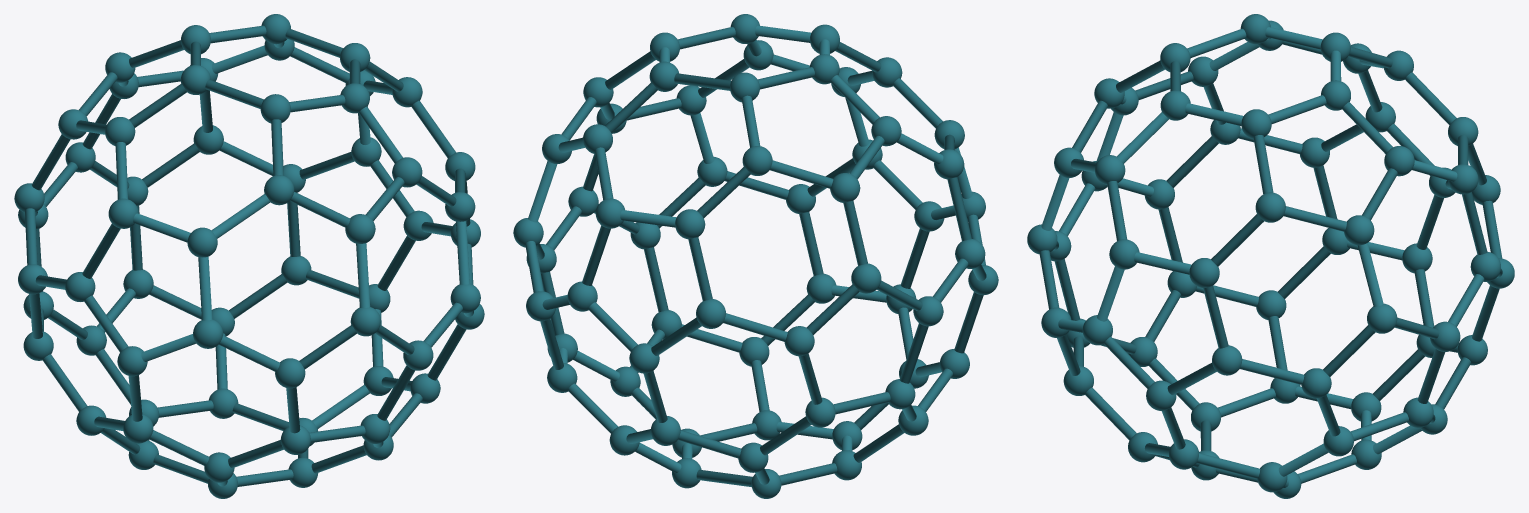
The picture shows the model from 3 angles, left to right: view 1: azimuth 30°, elevation 25°; view 2: azimuth 150°, elevation 25°; view 3: azimuth 270°, elevation 25°; orthographic projection.
Visible parts, largest first — view 1: fullerene; view 2: fullerene; view 3: fullerene.
Part boxes in pixels (left/top/right/bottom): fullerene: left=14, top=14, right=484, bottom=498; fullerene: left=513, top=14, right=998, bottom=498; fullerene: left=1027, top=14, right=1514, bottom=498.
Bounding box in the file's own units: 7.32 × 7.13 × 7.43.
